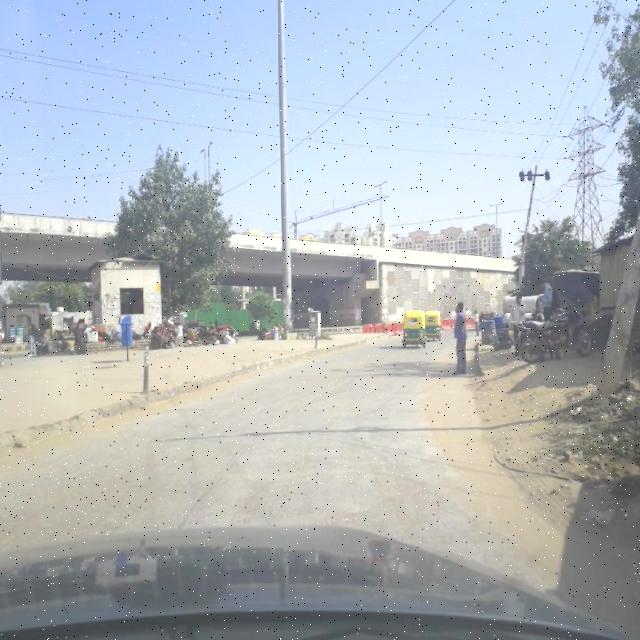D01: (176, 426, 265, 530)
